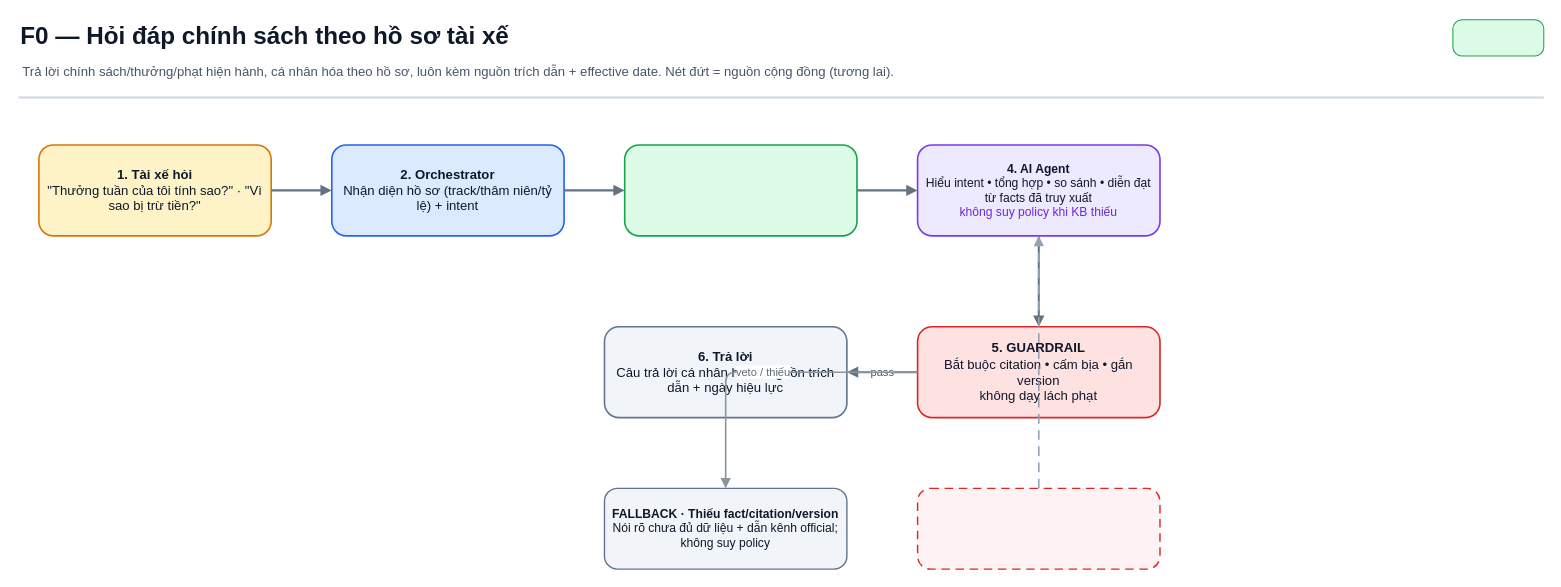
The diagram is 1561 pixels wide and 587 high, and some of its shapes have lost their labels. The shapes that lost their labels are listed below. From the top down, each one's centre as x and y in pixels, then its label:
At point 1498,37: "F0".
At point 740,190: "3. Truy xuất Policy KB versioned + effective date + citation (research/policy)".
At point 1038,528: "Nguồn cộng đồng → Lọc rủi ro bổ sung ngữ cảnh, KHÔNG thay policy ◇ TƯƠNG LAI".
